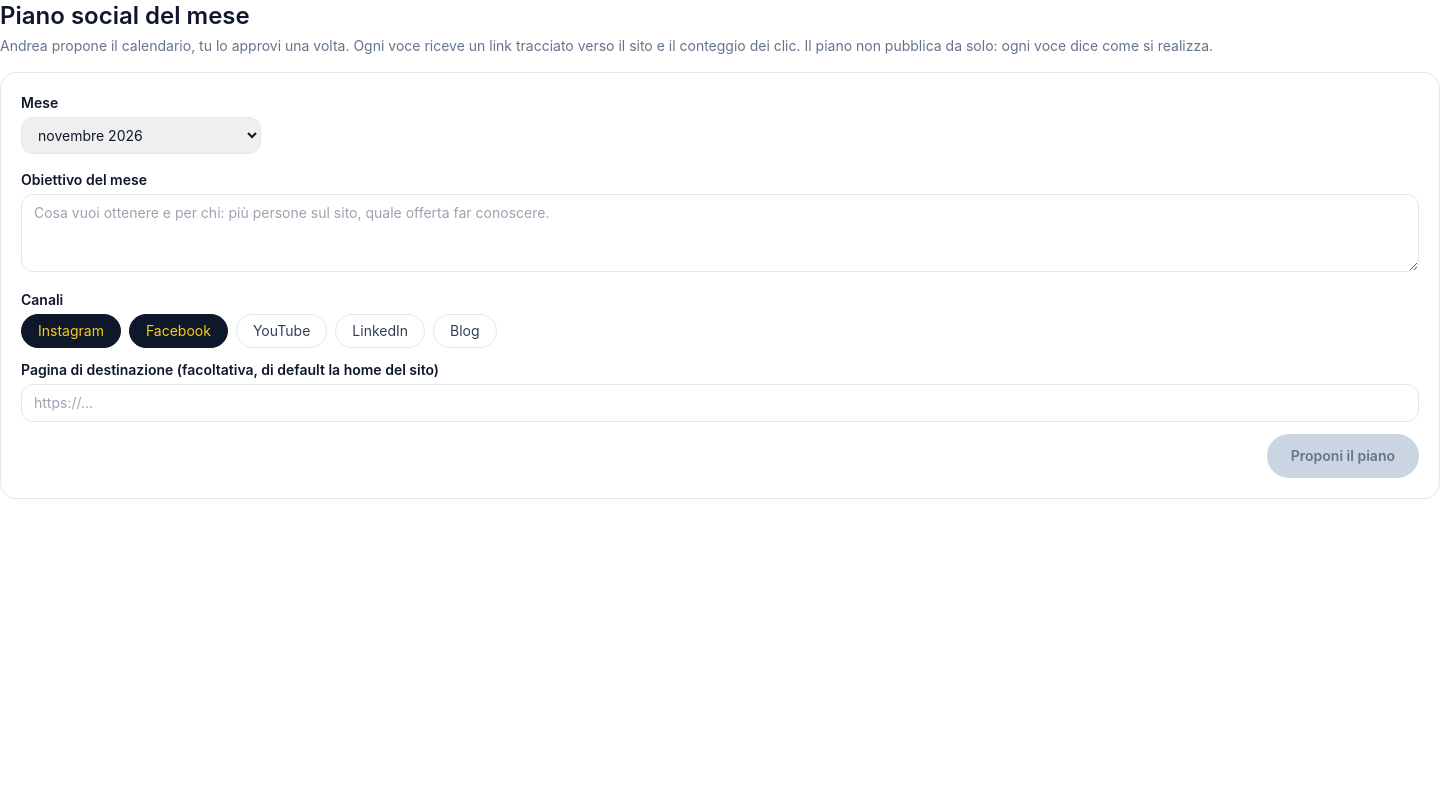
Test case: con meno di 3 voci «Approva il piano» è spento
The width and height of the screenshot is (1440, 801).
Replace the text in the text box labelled "Obiettivo del mese" with "Portare persone sul sito": (720, 233) [21, 194, 1419, 272]
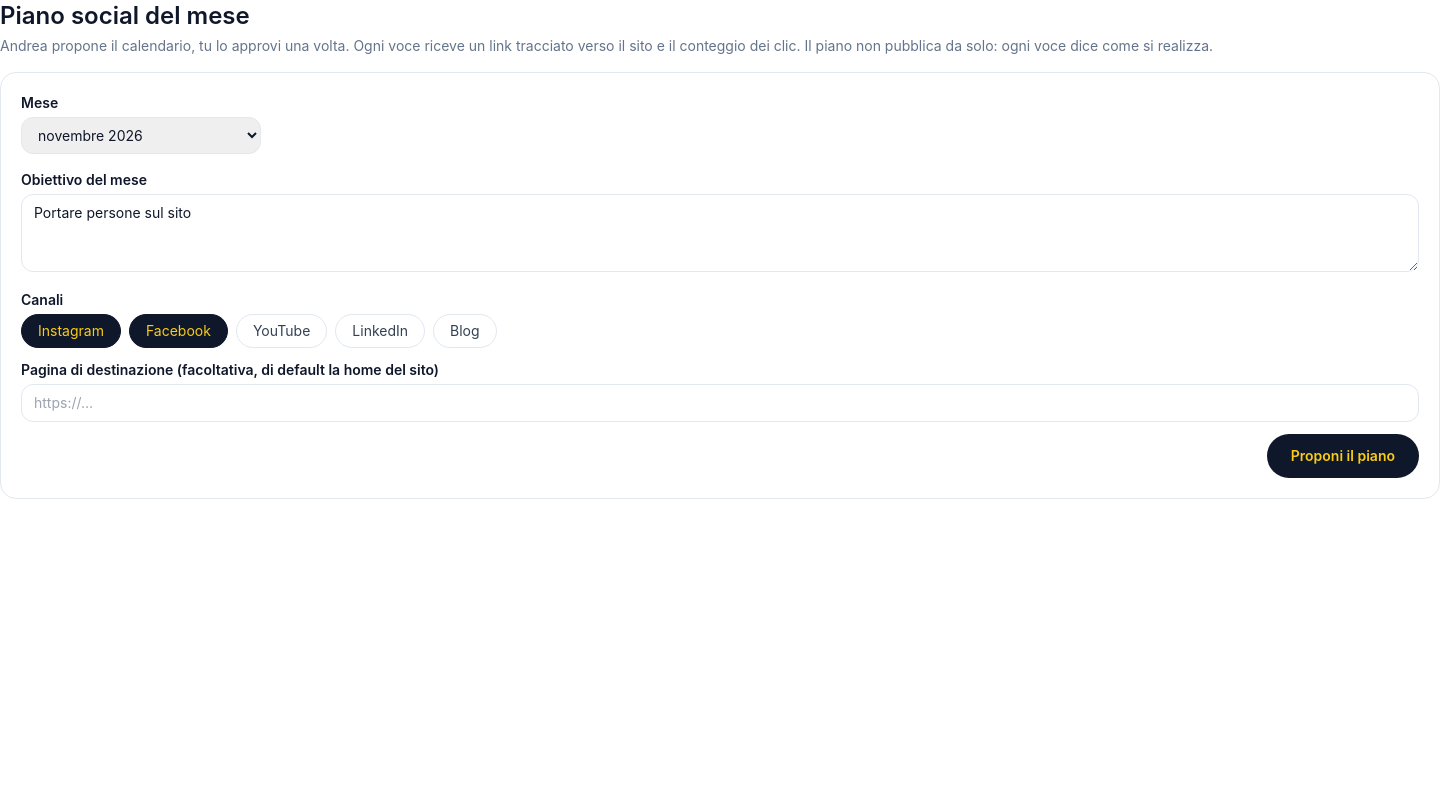
Click the button "Proponi il piano": (1343, 456) [1267, 434, 1419, 478]
(page scrolled)
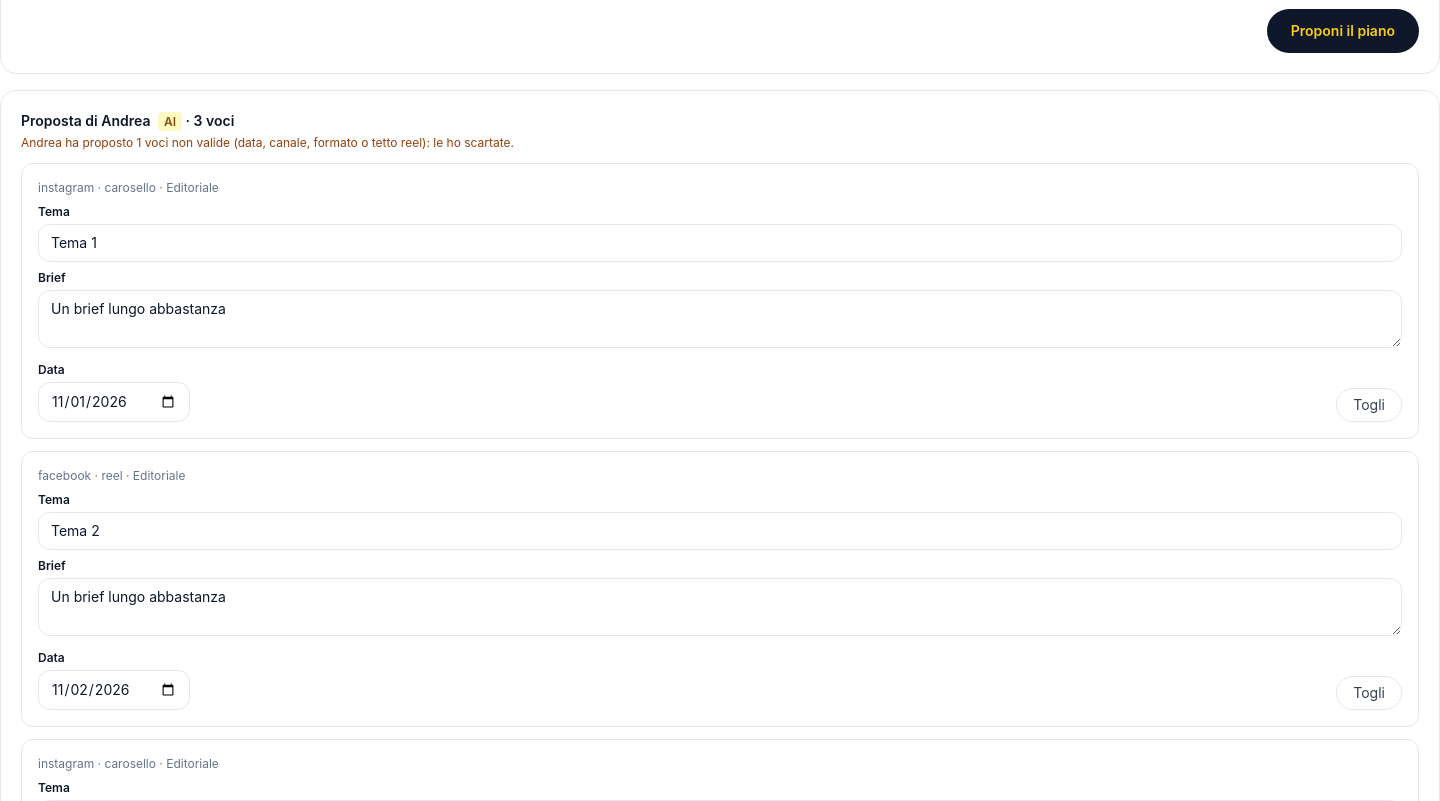
Now the text "Proposta di Andrea AI · 3 voci" is shown, box [21, 112, 234, 131]
Click the 1st button "Togli": (1369, 405) [1336, 388, 1402, 422]
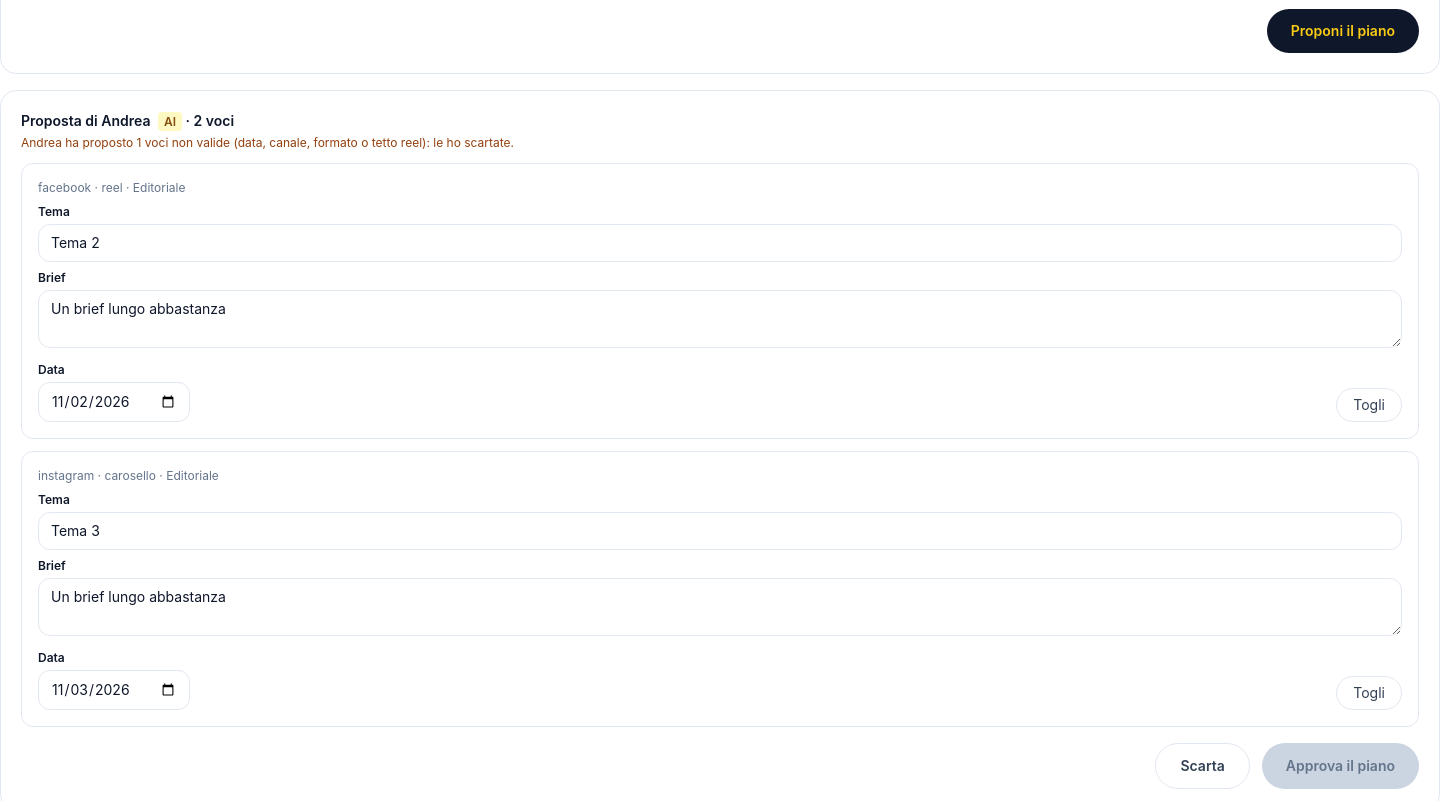
Now the button "Approva il piano" is disabled, box [1262, 743, 1419, 789]
